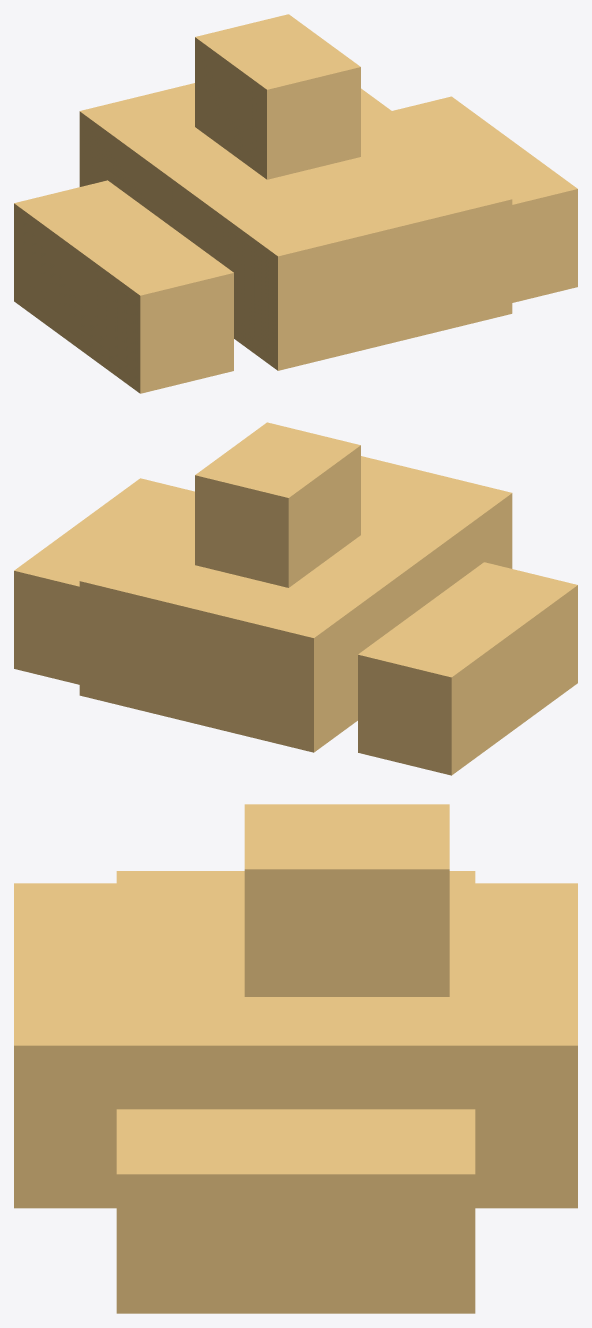
The model's file is scout.gltf.
The picture shows the model from 3 angles, top to bottom: view 1: azimuth 30°, elevation 25°; view 2: azimuth 150°, elevation 25°; view 3: azimuth 270°, elevation 25°; orthographic projection. The views are drawn at different scales.
Parts seen in each view (by area): view 1: scout; view 2: scout; view 3: scout.
Boxes of the visible parts, x1,y1,x2,y2 form: scout: (14,14,577,393); scout: (14,422,577,775); scout: (14,804,577,1313).
Bounding box in the file's own units: 1.4 × 0.7 × 1.1.
